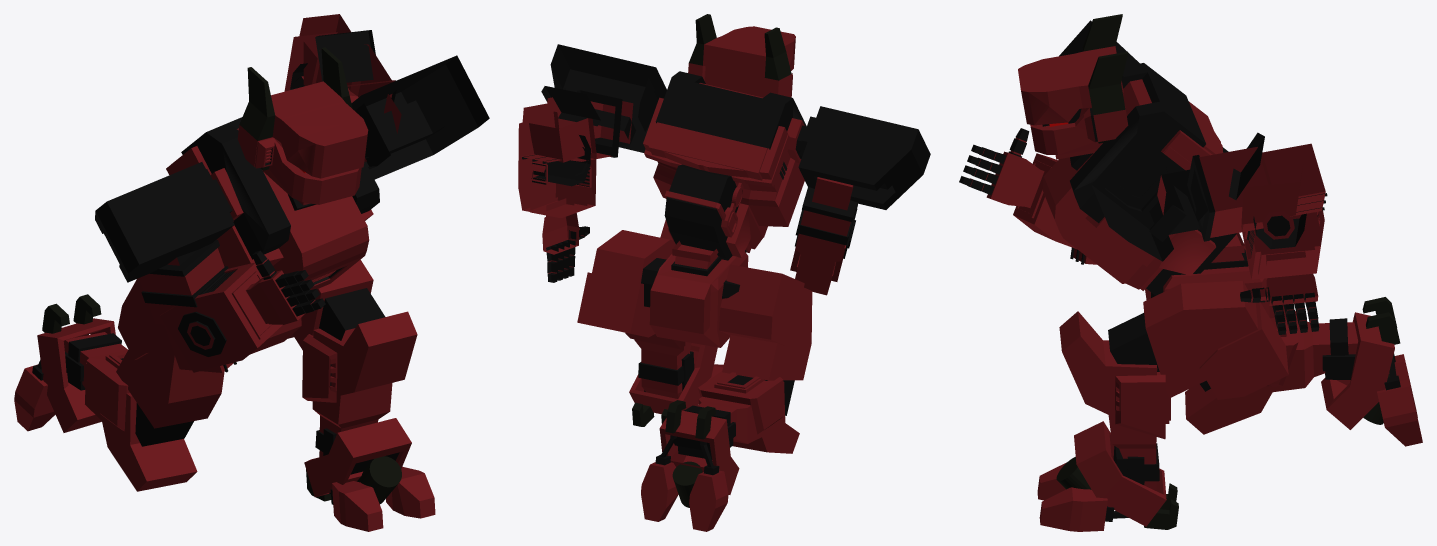
File: walk7.obj
The picture shows the model from 3 angles, left to right: view 1: azimuth 30°, elevation 25°; view 2: azimuth 150°, elevation 25°; view 3: azimuth 270°, elevation 25°; orthographic projection. The views are drawn at different scales.
Parts seen in each view (by area): view 1: R_UpperShoulder_Cube.030; view 2: R_UpperShoulder_Cube.030; view 3: R_UpperShoulder_Cube.030.
Part boxes in pixels (<box>): R_UpperShoulder_Cube.030: <box>14,14,489,531</box>; R_UpperShoulder_Cube.030: <box>518,14,930,531</box>; R_UpperShoulder_Cube.030: <box>959,14,1422,531</box>.
Bounding box in the file's own units: 1.44 × 1.62 × 1.5.
